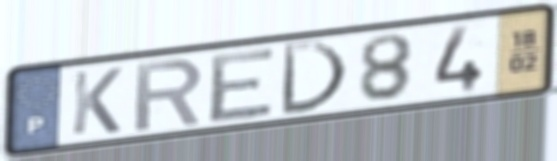4: (431, 22, 488, 95)
8: (355, 32, 419, 104)
D: (276, 39, 351, 118)
E: (205, 44, 279, 126)
K: (69, 65, 126, 138)
R: (132, 56, 207, 134)
